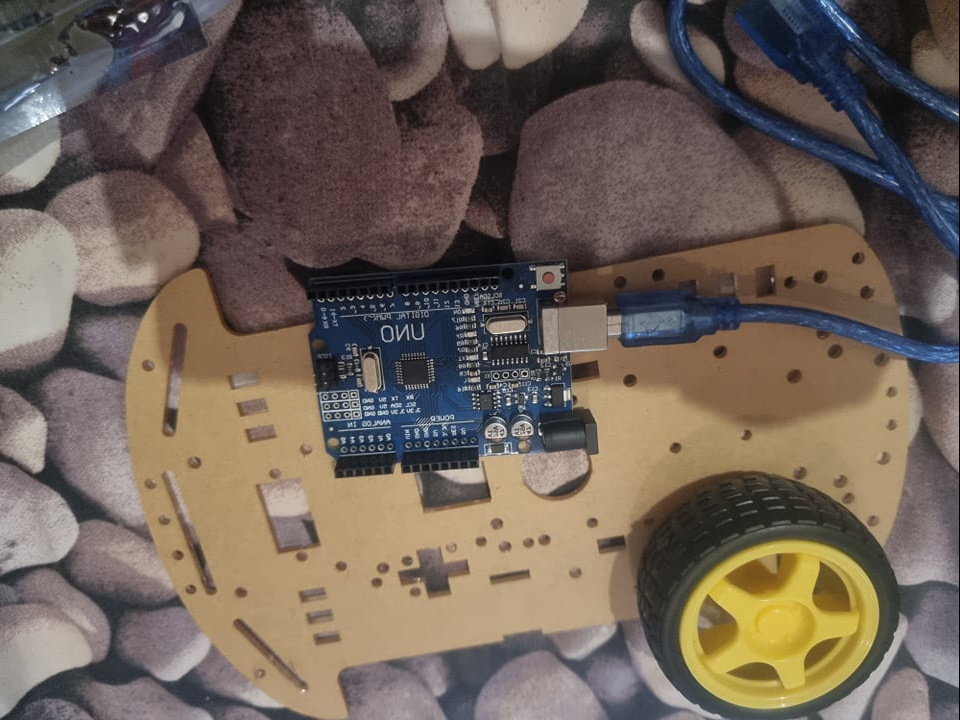UNO R3: (306, 261, 611, 479)
